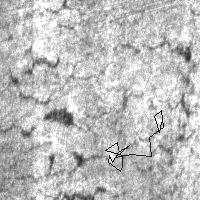crazing: (1, 69, 186, 145), (2, 1, 169, 66), (98, 90, 192, 197), (105, 110, 163, 171)
